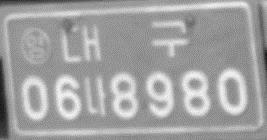0: (218, 66, 248, 116), (20, 74, 50, 121)
6: (54, 72, 82, 120)
8: (180, 70, 212, 117), (109, 71, 139, 119)
9: (145, 70, 174, 118)
나: (82, 75, 110, 118)
대구_D: (59, 17, 191, 64)
영: (18, 27, 54, 66)
